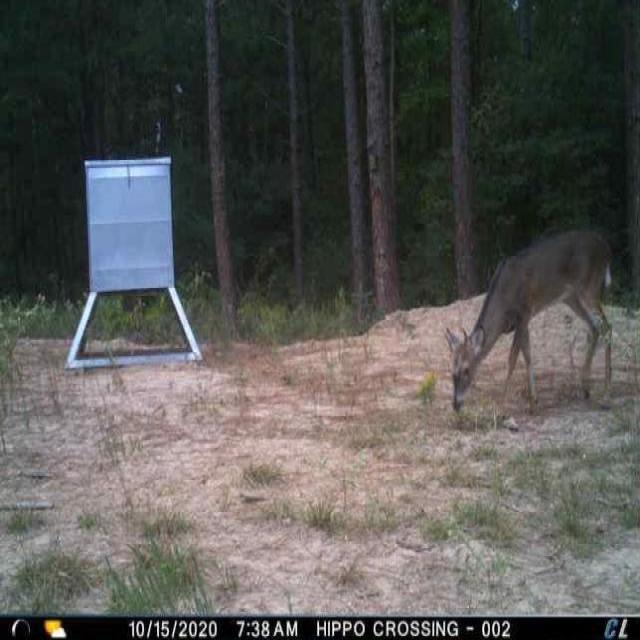deer: (440, 227, 623, 417)
